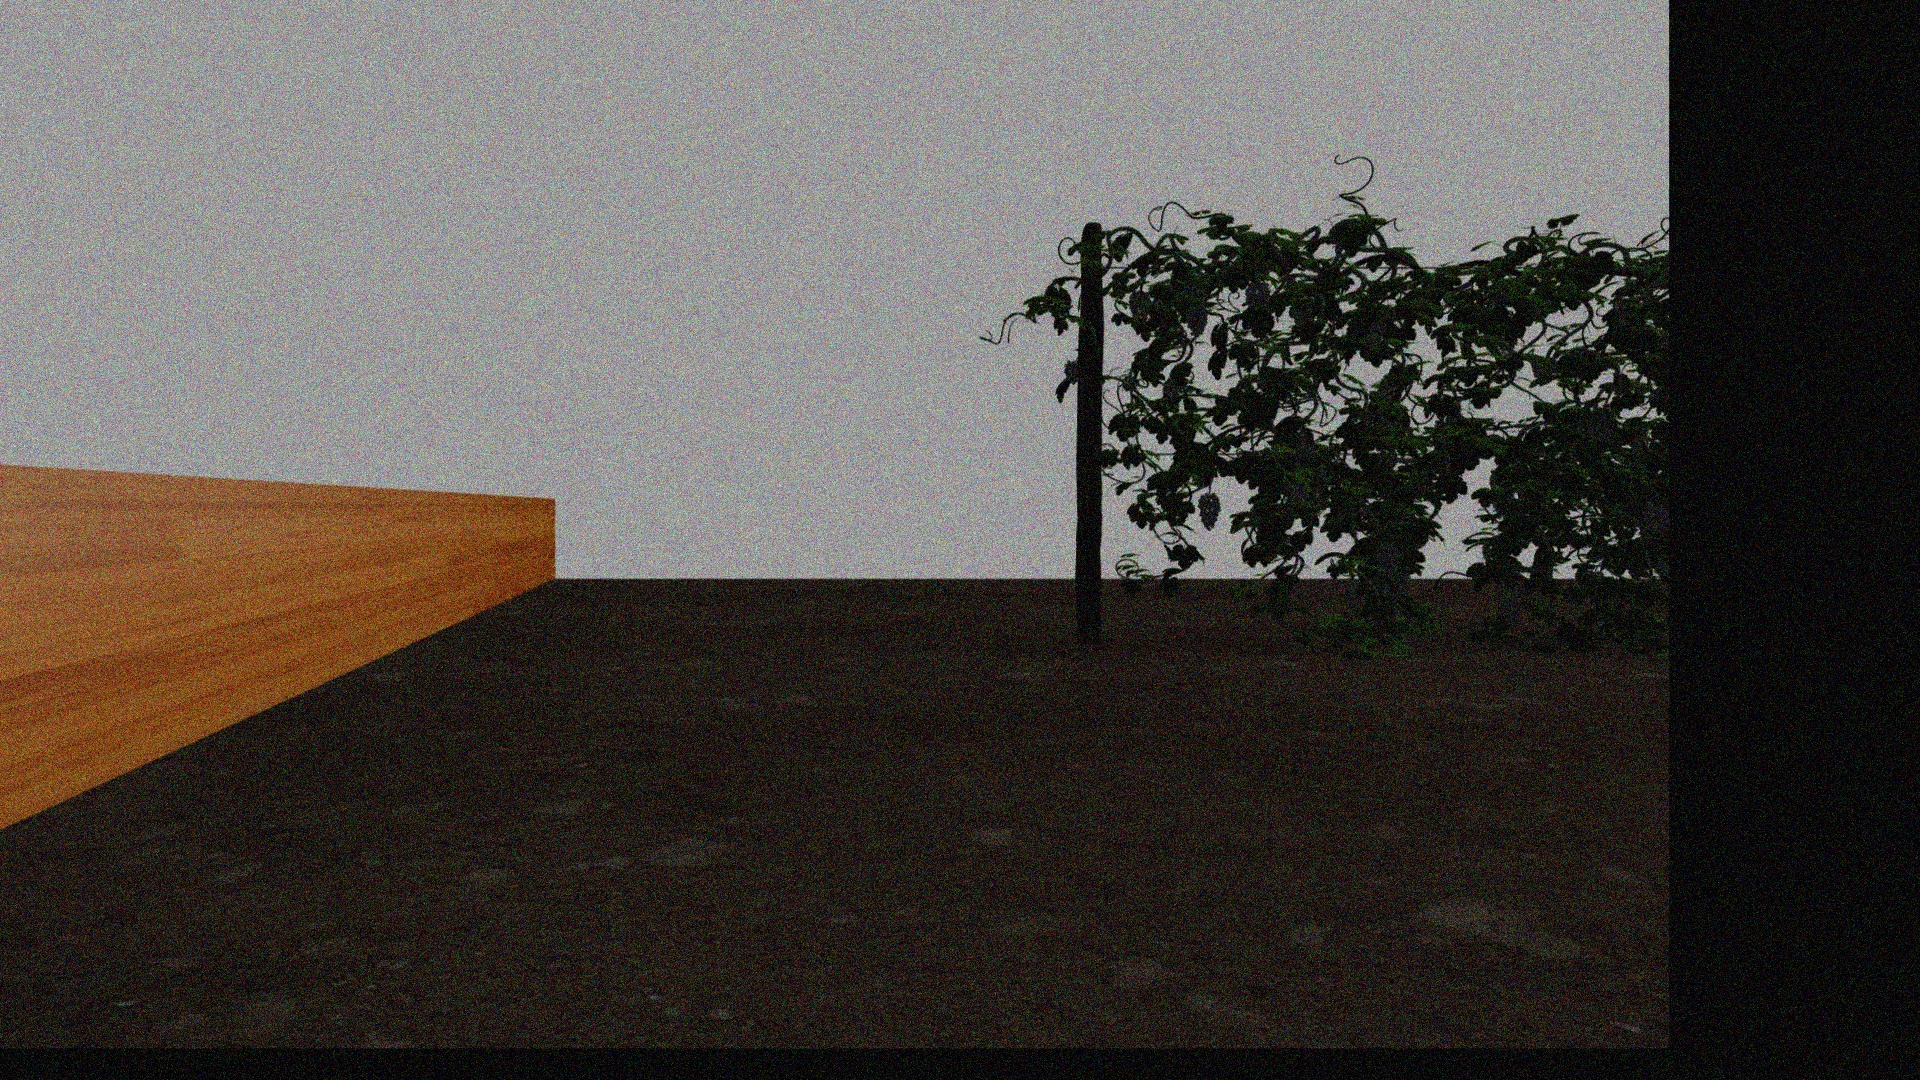grape: (1495, 585, 1527, 626), (1374, 541, 1400, 578), (1197, 492, 1220, 531), (1182, 270, 1207, 305), (1642, 502, 1665, 537), (1127, 290, 1151, 323), (1342, 584, 1366, 616), (1244, 280, 1271, 306), (1185, 305, 1207, 335), (1063, 360, 1077, 382)
